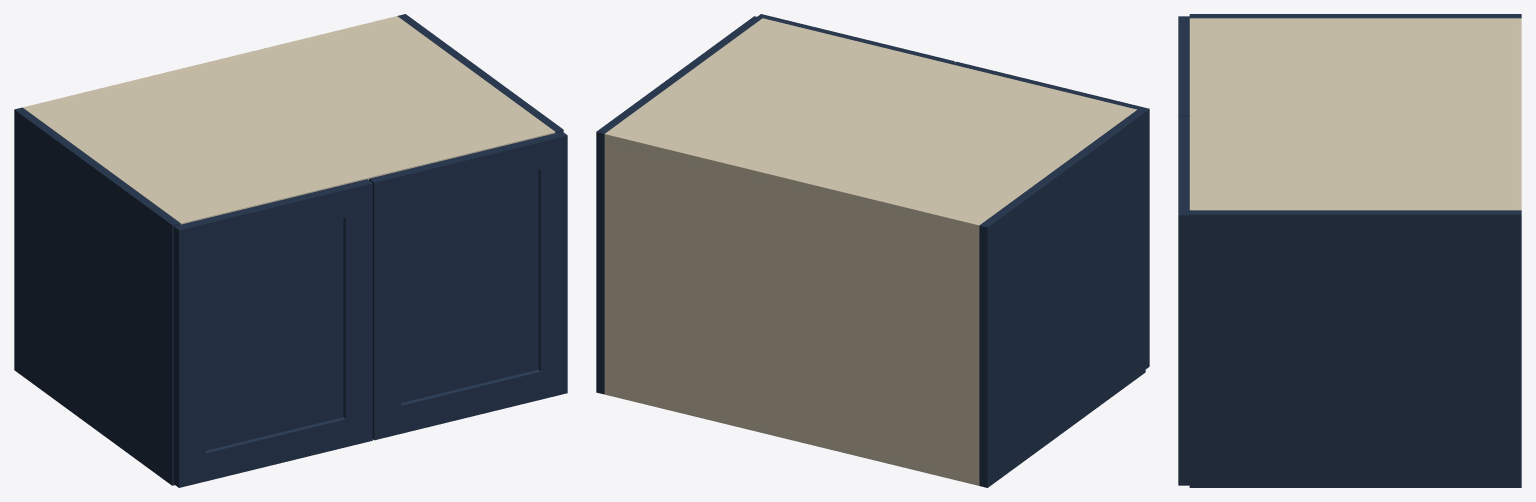
The model's file is oppein-ply-bss-w332124.glb.
The picture shows the model from 3 angles, left to right: view 1: azimuth 30°, elevation 25°; view 2: azimuth 150°, elevation 25°; view 3: azimuth 270°, elevation 25°; orthographic projection. The views are drawn at different scales.
Parts seen in each view (by area): view 1: Cabinet top, Door, Door.001, Cabinet side, Cabinet side.001, Cabinet back; view 2: Cabinet back, Cabinet top, Cabinet side, Cabinet side.001, Door, Cabinet bottom, Door.001; view 3: Cabinet side.001, Cabinet top, Door.001, Cabinet side, Cabinet back, Door.
Part boxes in pixels (left/top/right/bottom): Cabinet top: left=23, top=17, right=555, bottom=224; Door: left=173, top=179, right=372, bottom=487; Door.001: left=369, top=131, right=567, bottom=440; Cabinet side: left=14, top=107, right=180, bottom=485; Cabinet side.001: left=397, top=14, right=563, bottom=132; Cabinet back: left=24, top=16, right=399, bottom=109; Cabinet back: left=604, top=131, right=981, bottom=485; Cabinet top: left=604, top=18, right=1136, bottom=232; Cabinet side: left=979, top=109, right=1145, bottom=487; Cabinet side.001: left=596, top=16, right=762, bottom=394; Door: left=952, top=61, right=1149, bottom=368; Cabinet bottom: left=647, top=398, right=979, bottom=485; Door.001: left=757, top=14, right=954, bottom=64; Cabinet side.001: left=1189, top=210, right=1521, bottom=487; Cabinet top: left=1189, top=18, right=1521, bottom=210; Door.001: left=1178, top=116, right=1189, bottom=485; Cabinet side: left=1189, top=14, right=1521, bottom=18; Cabinet back: left=1515, top=18, right=1521, bottom=210; Door: left=1178, top=16, right=1189, bottom=115.
Size of the model in its own units: 0.8382 by 0.5334 by 0.6064.
